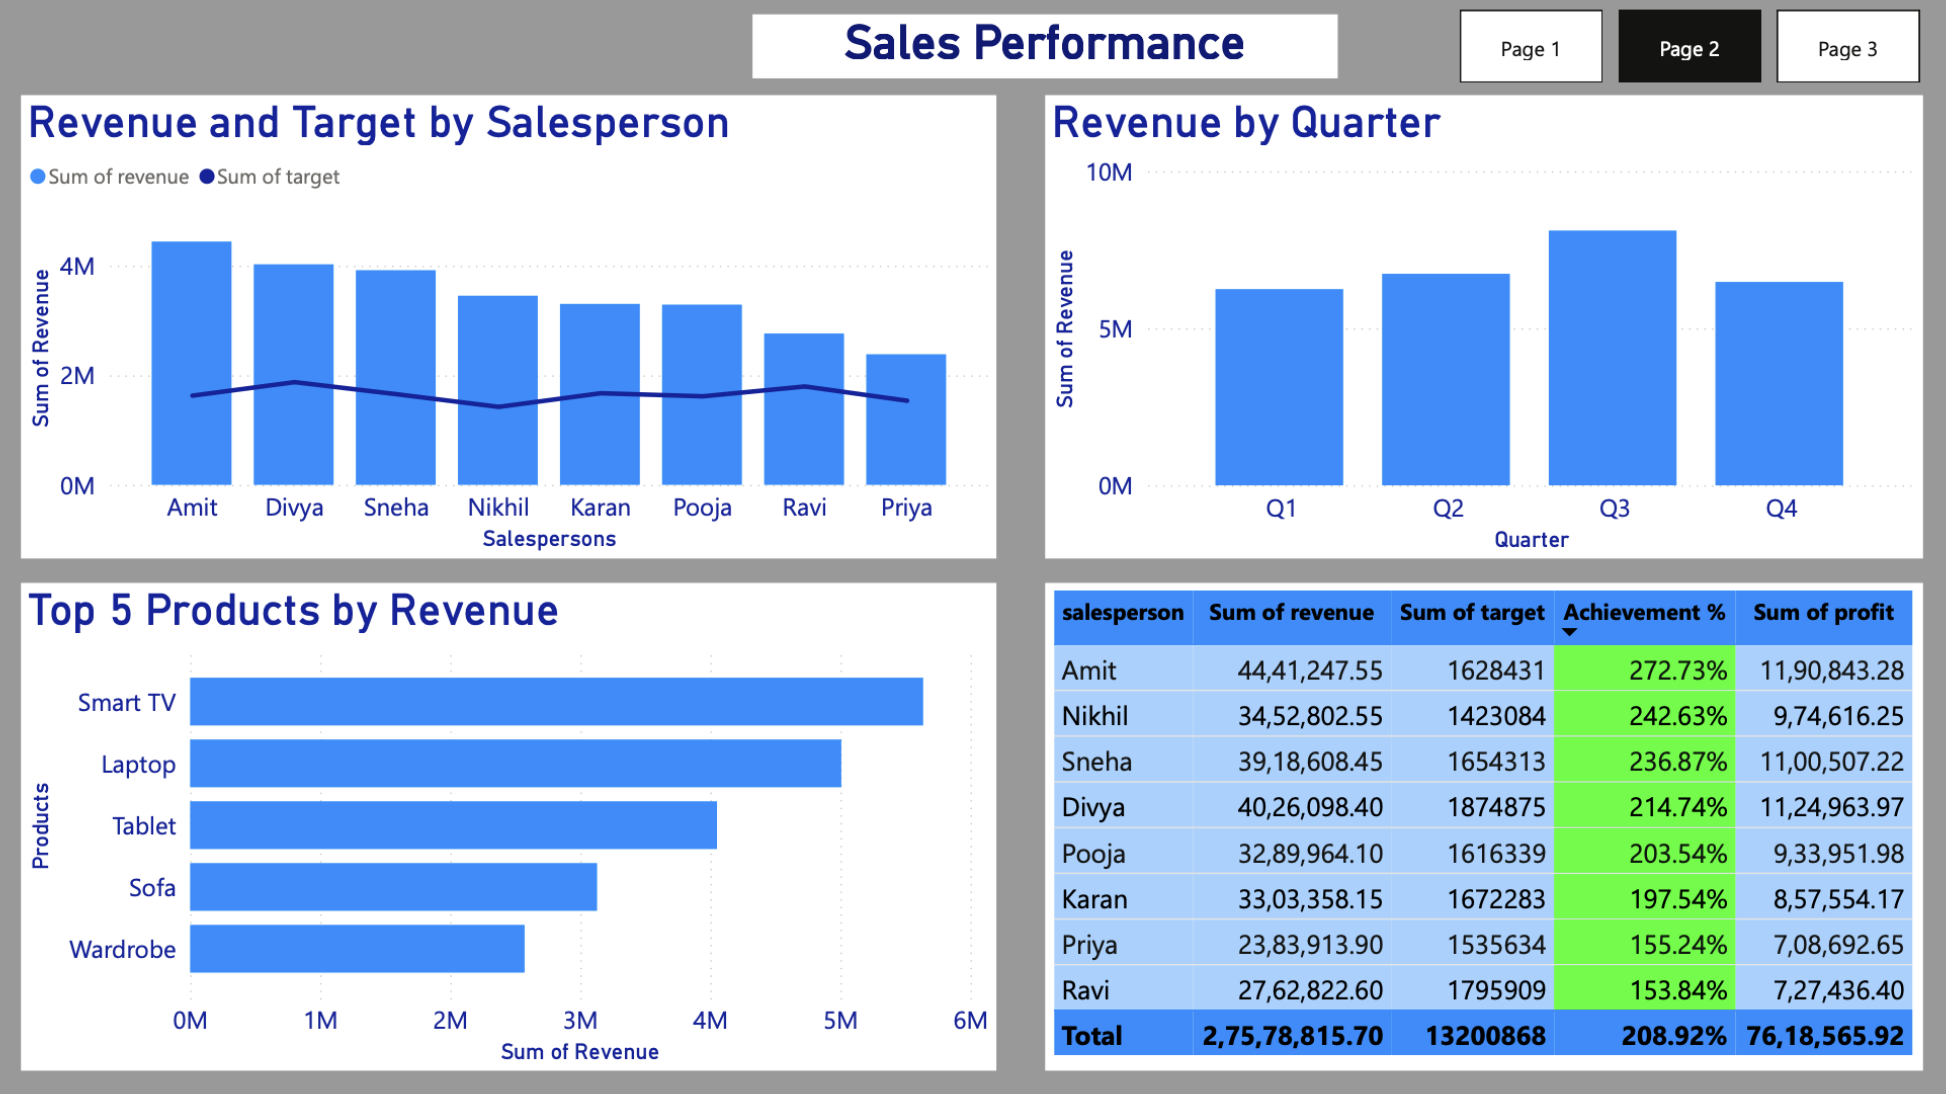

The page's visual inventory and layout, read from the dashboard file:
{"tool":"powerbi","page":{"name":"Page 2","canvas":[1280,720],"ordinal":1},"visuals":[{"type":"lineStackedColumnComboChart","title":"Revenue and Target by Salesperson","fields":{"Category":["sales_transactions.salesperson"],"Y":["Sum(sales_transactions.revenue)"],"Y2":["Sum(sales_targets.target)"]},"box":[16,64,640,304],"z":0},{"type":"barChart","title":"Top 5 Products by Revenue","fields":{"Category":["sales_transactions.product"],"Y":["Sum(sales_transactions.revenue)"]},"box":[16,384,640,320],"z":1000},{"type":"columnChart","title":"Revenue by Quarter","fields":{"Category":["sales_transactions.quarter"],"Y":["Sum(sales_transactions.revenue)"]},"box":[688,64,576,304],"z":2000},{"type":"tableEx","fields":{"Values":["sales_transactions.salesperson","Sum(sales_transactions.revenue)","Sum(sales_targets.target)","sales_transactions.Achievement %","Sum(sales_transactions.profit)"]},"box":[688,384,576,320],"z":3000},{"type":"textbox","title":"Sales Performance","box":[496,11,384,42],"z":4000},{"type":"pageNavigator","box":[960,8,304,48],"z":4001}]}

Visuals, with their boxes in screenshot pixels (x1, y1, x2, y2), scaled from the page's 1280x720 canvas onto the 1946x1094 screenshot:
"Revenue and Target by Salesperson" lineStackedColumnComboChart: locate(24, 97, 997, 559)
"Top 5 Products by Revenue" barChart: locate(24, 583, 997, 1070)
"Revenue by Quarter" columnChart: locate(1046, 97, 1922, 559)
tableEx - sales_transactions.salesperson x Sum(sales_transactions.revenue): locate(1046, 583, 1922, 1070)
"Sales Performance" textbox: locate(754, 17, 1338, 81)
pageNavigator: locate(1460, 12, 1922, 85)
